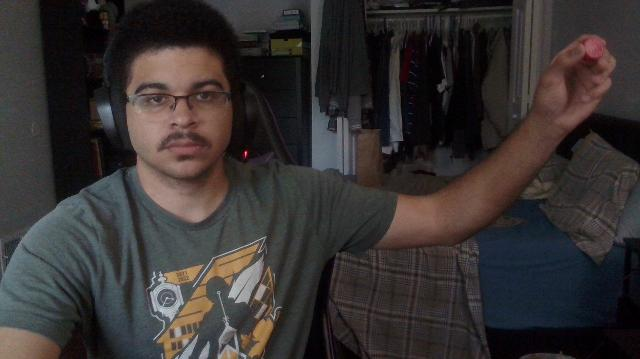cap: (580, 36, 604, 62)
